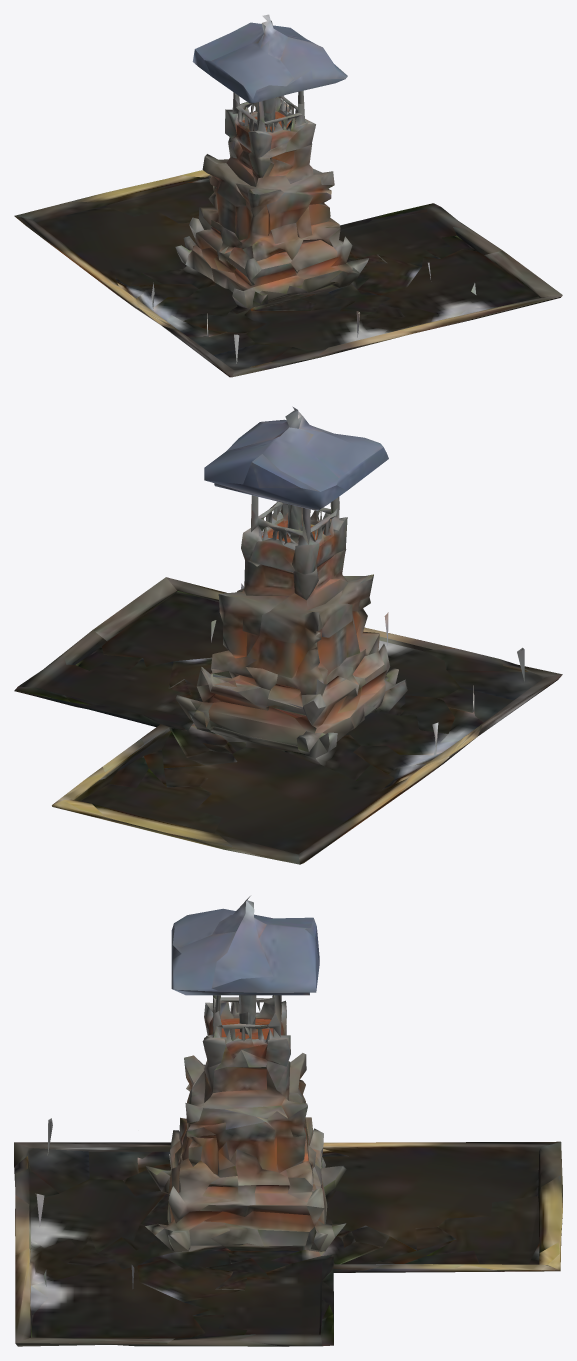
File: pura_dengan_kolam_lod2.glb
3 views of the same model, one above another, from view 1: azimuth 30°, elevation 25°; view 2: azimuth 150°, elevation 25°; view 3: azimuth 270°, elevation 25° (orthographic). The views are drawn at different scales.
Visible parts, largest first — view 1: tripo_node_eafc7fc7-739b-4083-8a17-96b86732e0f5; view 2: tripo_node_eafc7fc7-739b-4083-8a17-96b86732e0f5; view 3: tripo_node_eafc7fc7-739b-4083-8a17-96b86732e0f5.
Boxes of the visible parts, x1,y1,x2,y2 form: tripo_node_eafc7fc7-739b-4083-8a17-96b86732e0f5: (14, 14, 562, 377); tripo_node_eafc7fc7-739b-4083-8a17-96b86732e0f5: (14, 406, 562, 864); tripo_node_eafc7fc7-739b-4083-8a17-96b86732e0f5: (14, 896, 562, 1346).
Bounding box in the file's own units: 0.7469 × 0.5708 × 0.8548.
1 material, 1 textured.
